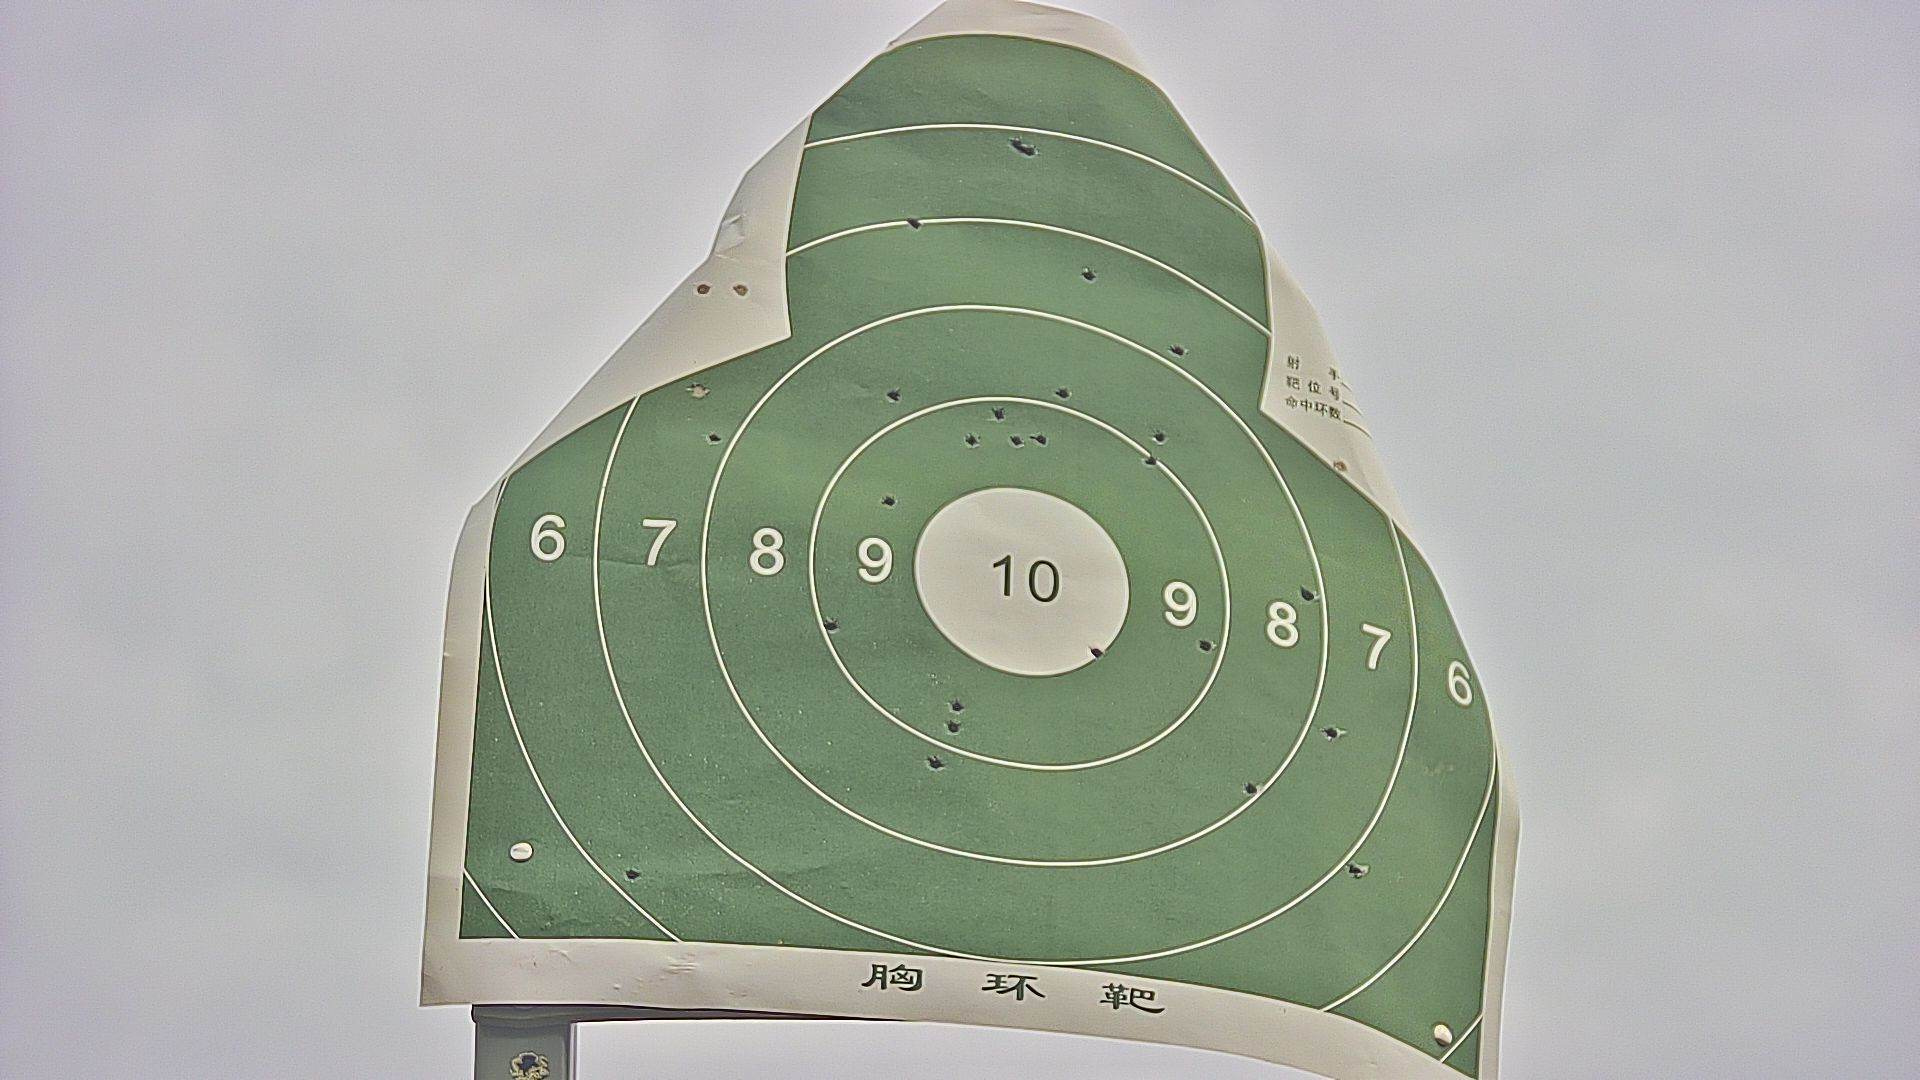hole: (1342, 860, 1367, 877), (1299, 585, 1317, 605), (694, 281, 713, 298), (1323, 724, 1340, 741), (1021, 142, 1036, 158), (1170, 343, 1185, 359), (951, 698, 967, 713), (1244, 779, 1259, 795), (887, 388, 905, 402), (731, 281, 746, 295), (622, 866, 640, 880), (1056, 384, 1069, 401), (1197, 638, 1215, 651), (1033, 433, 1047, 447), (945, 723, 961, 736), (1083, 266, 1096, 281), (928, 756, 942, 770), (1007, 433, 1021, 447), (1154, 431, 1168, 444), (1089, 645, 1102, 659), (1331, 460, 1346, 472), (907, 218, 920, 231), (1009, 137, 1021, 152), (965, 433, 977, 447), (694, 382, 704, 398), (825, 618, 837, 632), (885, 492, 895, 506), (1142, 454, 1156, 464), (994, 406, 1004, 422), (708, 434, 720, 444)
target: (455, 34, 1503, 1080)
ten: (915, 485, 1127, 676)
